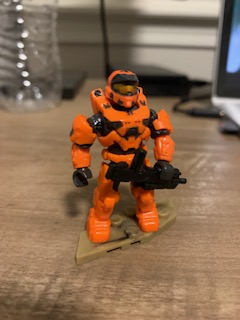rifle: (105, 147, 189, 194)
spartan: (65, 67, 177, 245)
